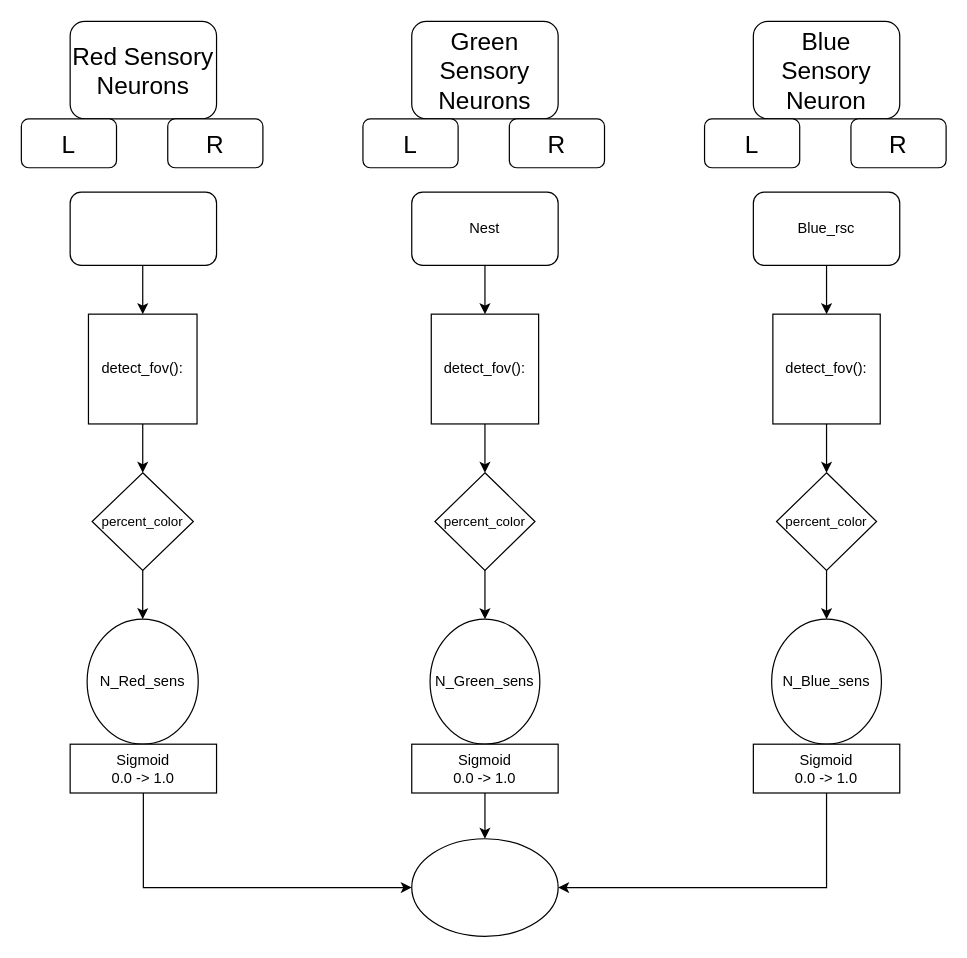
This 967x958 diagram has some shape labels left out. Each missing label, with the centre of its shape:
Interneurons: the point at 484,887
Red_rsc: the point at 143,228
